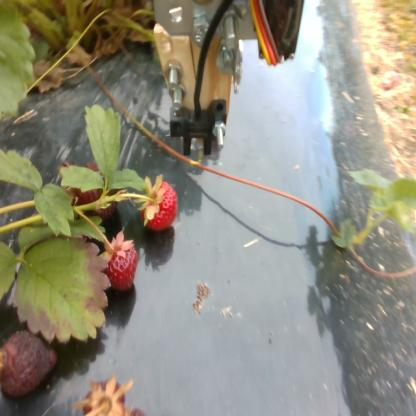ripe: (142, 180, 180, 229), (109, 239, 139, 286)
unripe: (2, 324, 62, 399)
